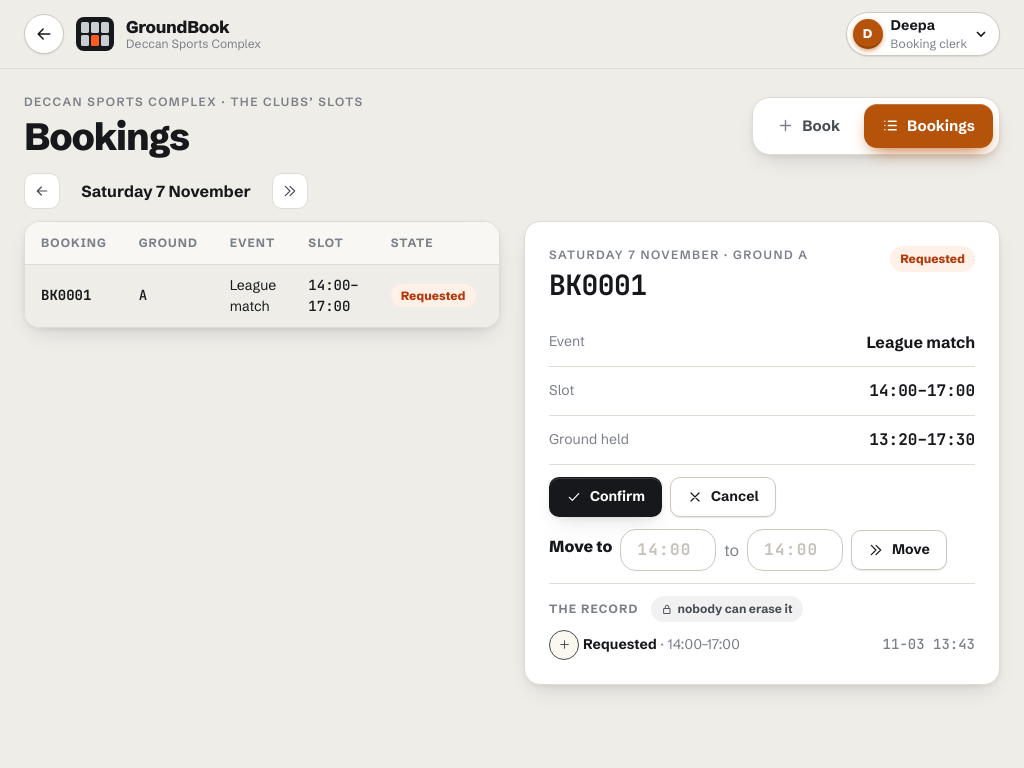
F-09 · Moving a booking › moving BK0001 to 13:00–16:00 says where it went and the card and the table show the new times
Expected: the table is shown, [25,222,500,327]
Type "13:00" into the field named "Move from" at x=668, y=550, box [621,530,715,570]
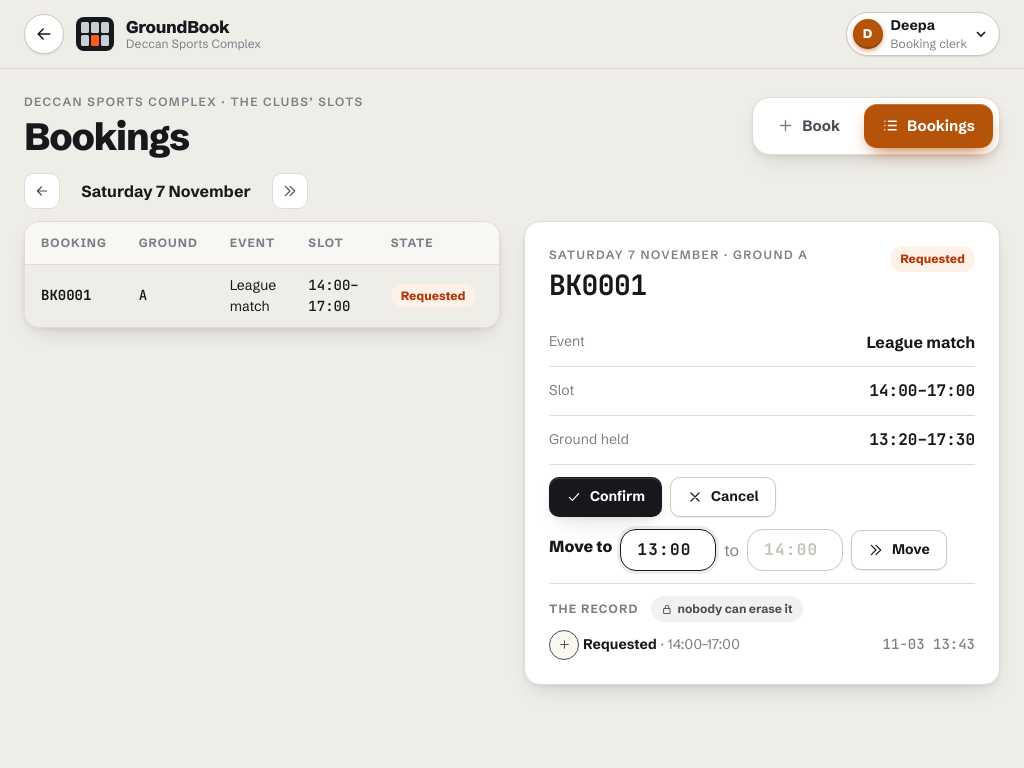
Type "16:00" into the field named "Move to" at x=795, y=550, box [748,530,842,570]
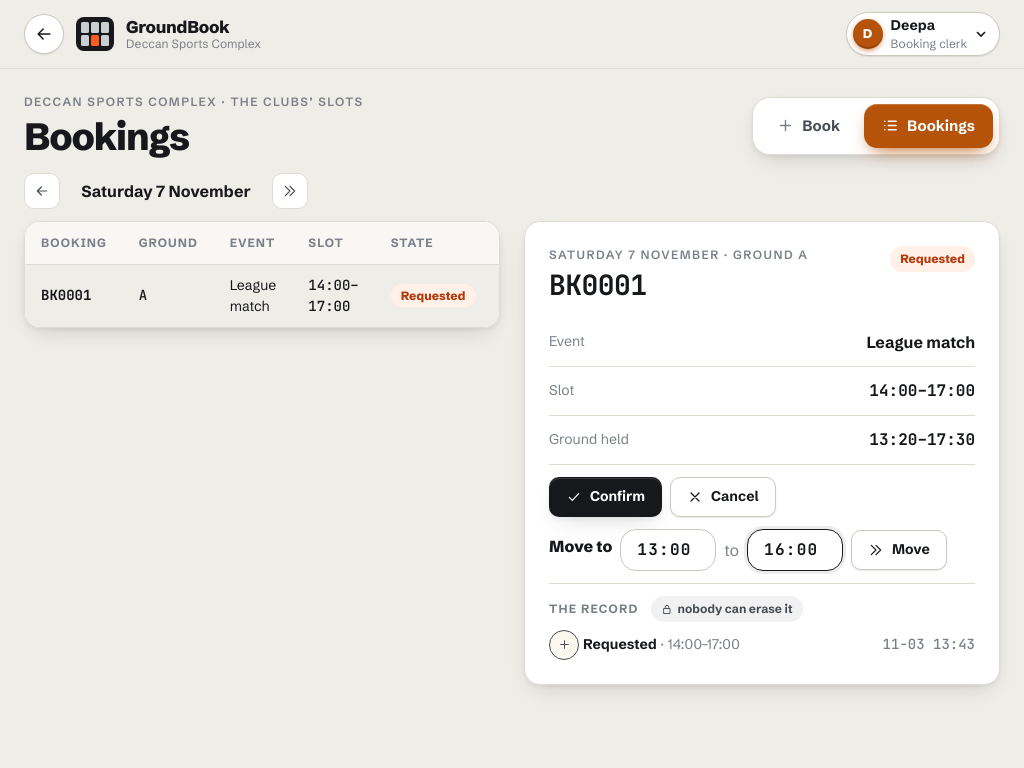
Click the button "Move" at x=899, y=550, box [851,530,947,570]
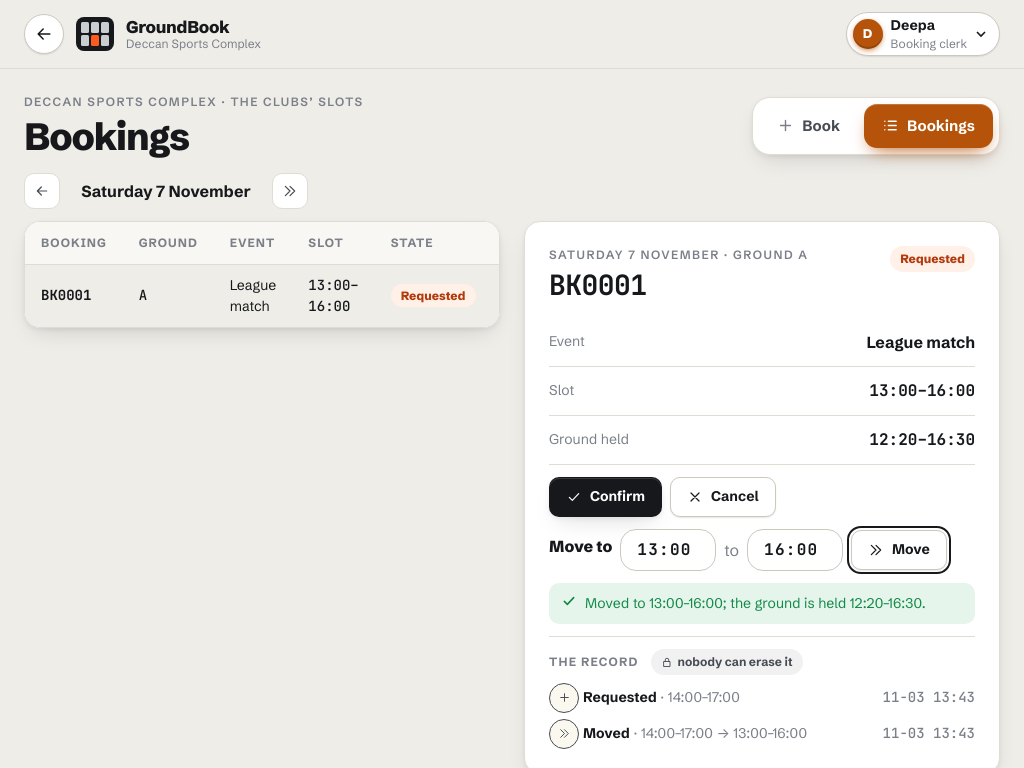
Expected: the text "Moved to 13:00–16:00; the ground is held 12:20–16:30." is shown, [585,593,926,614]
Expected: the text "13:00–16:00" is shown, [292,264,375,327]
